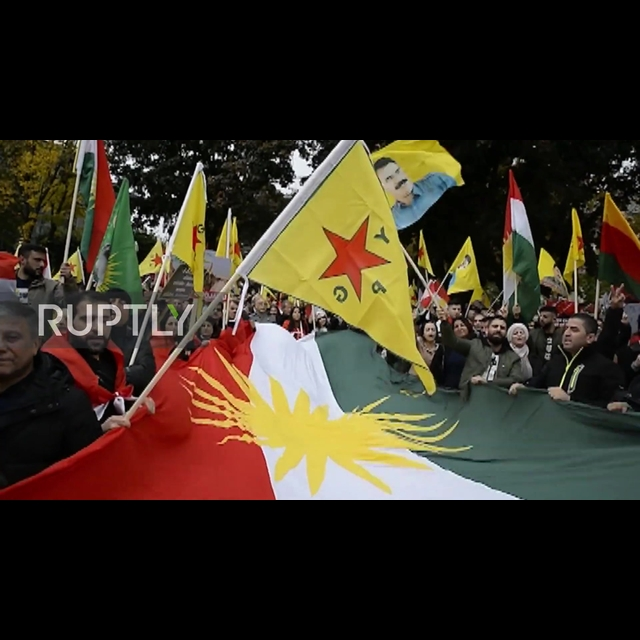APO: (370, 155, 420, 207)
YPG: (300, 211, 396, 302)
